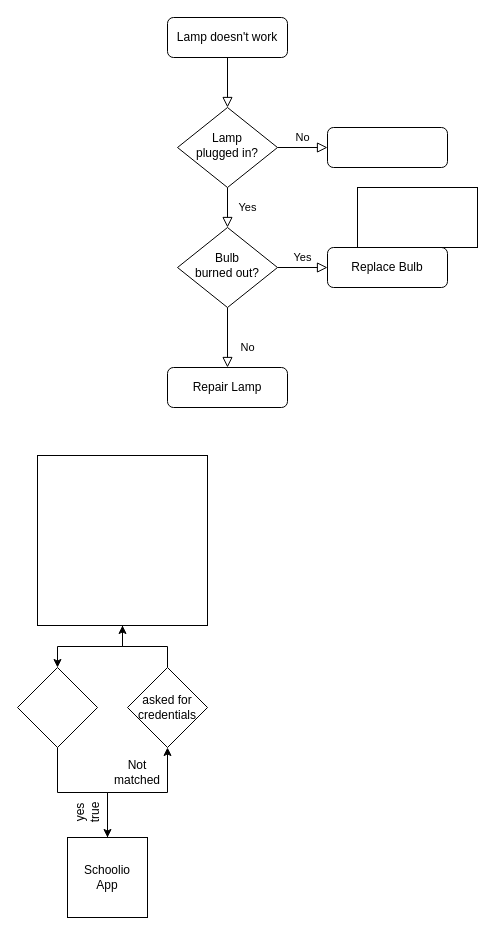
Some shapes in this 495 by 935 pixel diagram are drawn without their labels. Here are the shapes that lost their labels. From the top down, the centre of each, then its label:
At point (387, 147): "Plug in lamp".
At point (122, 540): "users 1.Admin 2.Accountant 3.Receptionist 4.Student".
At point (57, 707): "Try to login".
